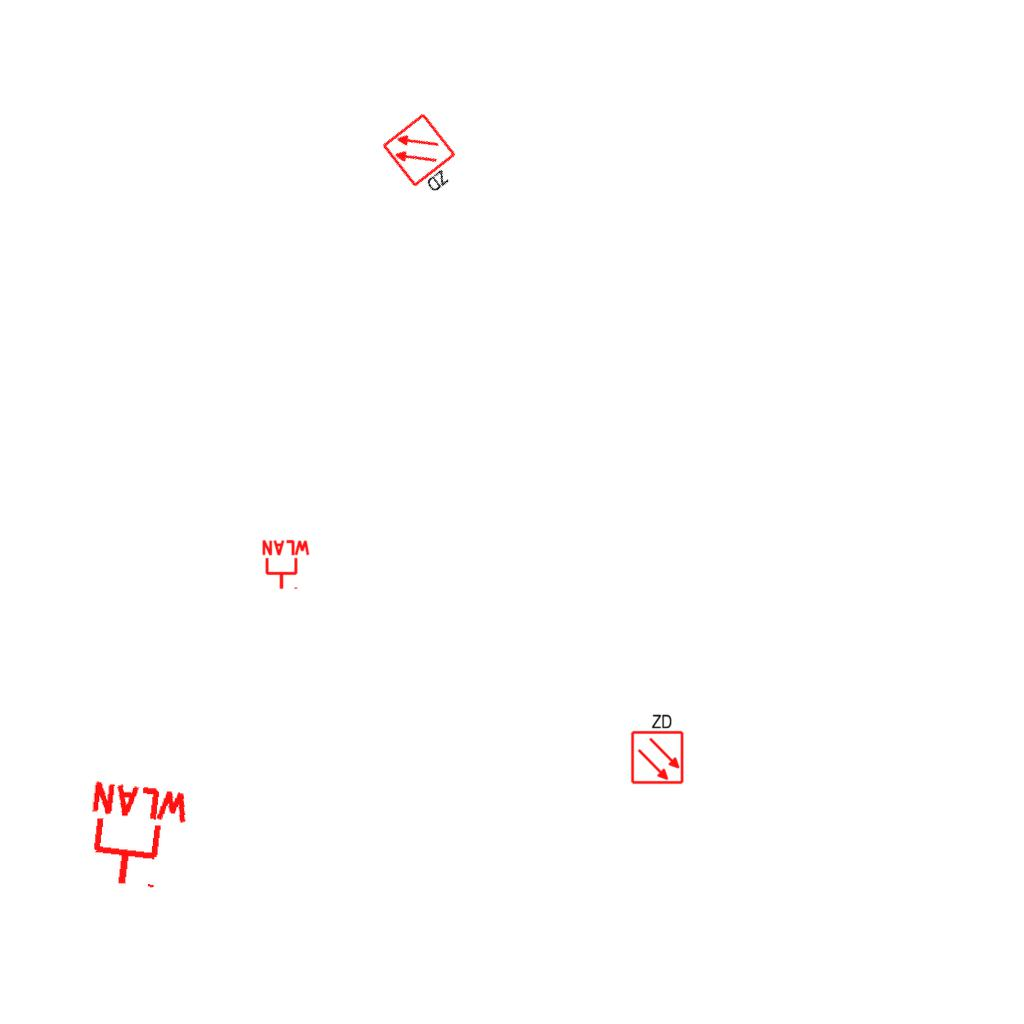WLAN: (78, 778, 195, 896), (260, 539, 312, 591)
ZD_Melder_in_Zwischendecke_mit_Revisionsoeffnung_mind_40_x_40_cm: (380, 110, 471, 204), (628, 711, 685, 785)
